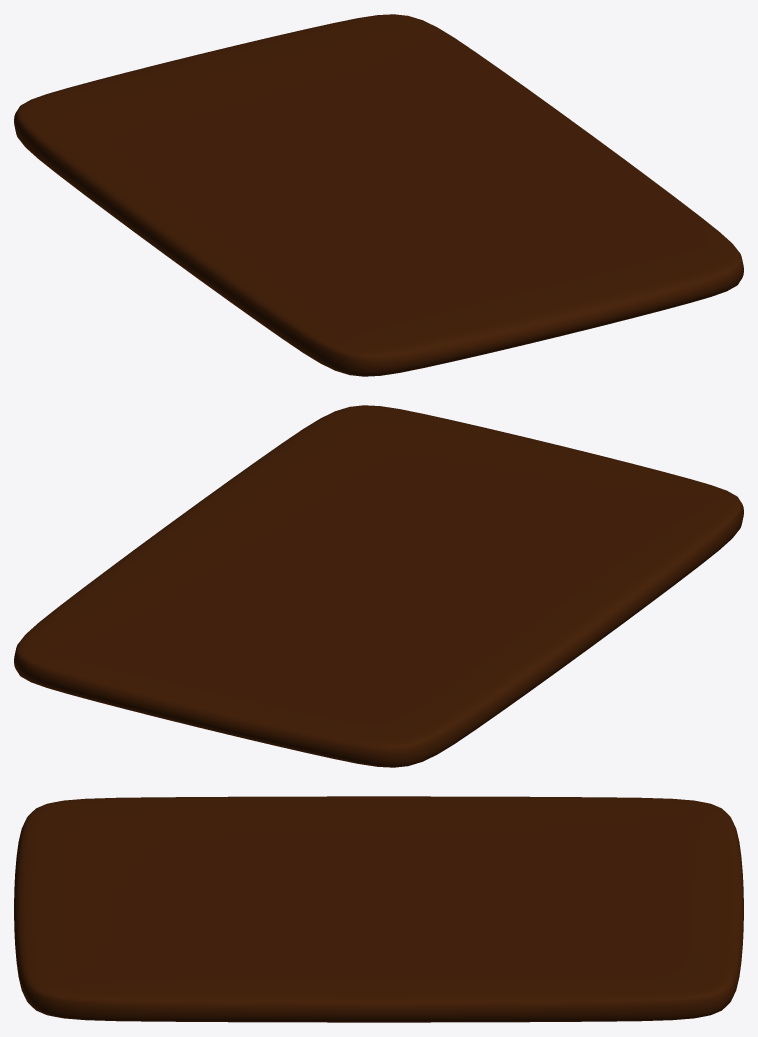
The model's file is CutBoard.fbx.
3 renders of one model, top to bottom at view 1: azimuth 30°, elevation 25°; view 2: azimuth 150°, elevation 25°; view 3: azimuth 270°, elevation 25°, orthographic.
Parts seen in each view (by area): view 1: CutBoard; view 2: CutBoard; view 3: CutBoard.
Part boxes in pixels (left/top/right/bottom): CutBoard: left=14, top=14, right=743, bottom=376; CutBoard: left=14, top=405, right=743, bottom=767; CutBoard: left=14, top=796, right=743, bottom=1022.
Bounding box in the file's own units: 50.36 × 3.16 × 74.13.
